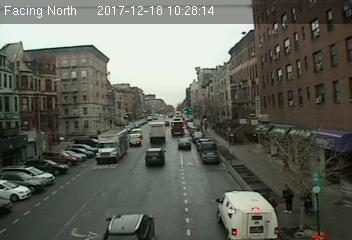car: (143, 146, 165, 166), (200, 149, 218, 162), (178, 137, 192, 149)
truck: (217, 192, 279, 240), (97, 128, 126, 163), (147, 121, 166, 144)
ups: (169, 120, 186, 137)
